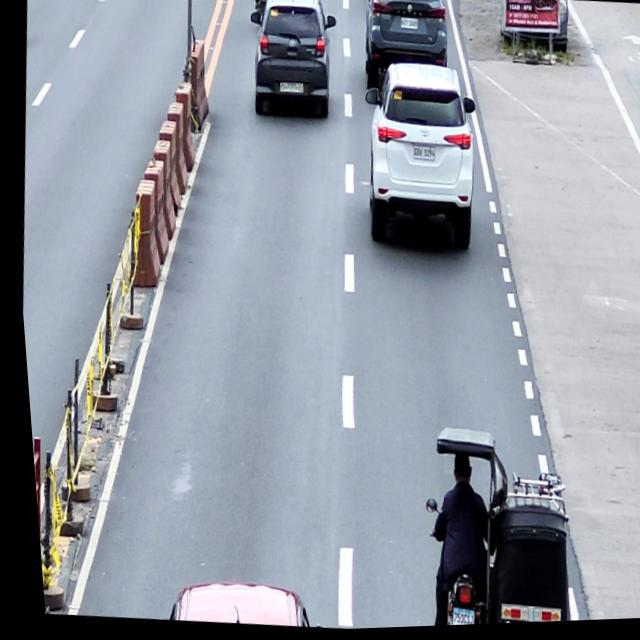Car: (348, 59, 485, 256), (239, 0, 345, 126), (356, 0, 455, 100)
License-Plate: (441, 611, 464, 628), (409, 148, 433, 164), (399, 20, 418, 32), (281, 84, 298, 95)
Tricycle: (398, 420, 584, 629)
